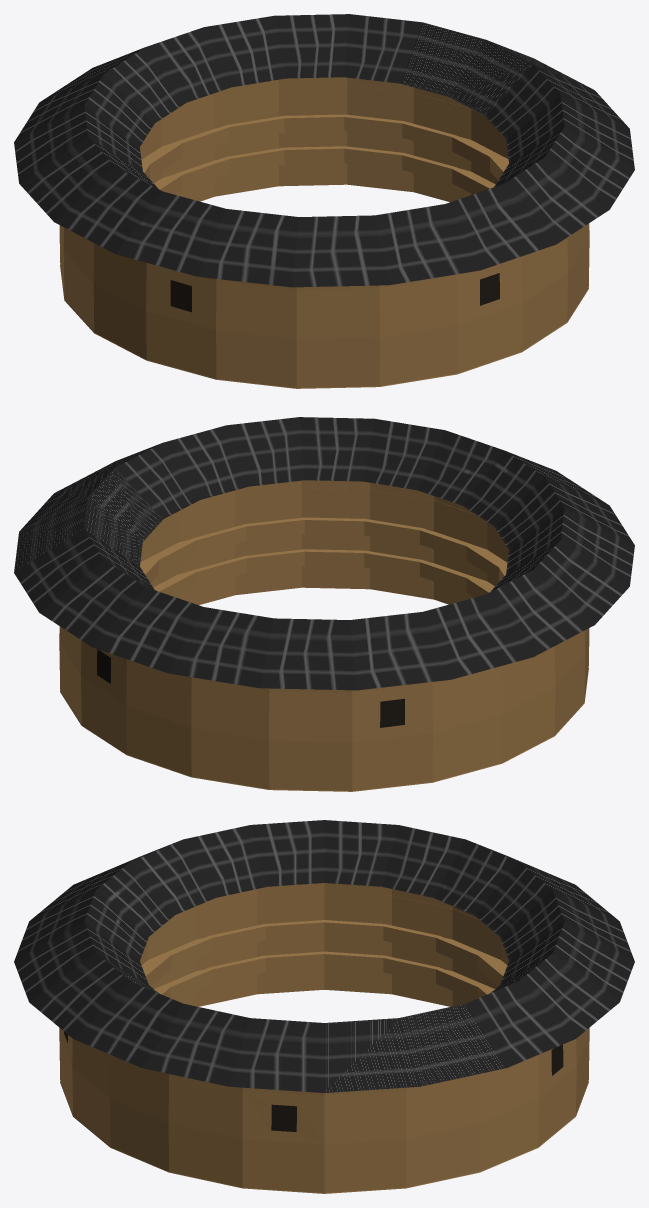
Rendered from fujiantulou.fbx.
3 views of the same model, one above another, from view 1: azimuth 30°, elevation 25°; view 2: azimuth 150°, elevation 25°; view 3: azimuth 270°, elevation 25° (orthographic).
Parts seen in each view (by area): view 1: pSphere1; view 2: pSphere1; view 3: pSphere1.
Boxes of the visible parts, <box> form: pSphere1: <box>14,14,634,388</box>; pSphere1: <box>14,417,634,791</box>; pSphere1: <box>14,820,634,1193</box>.
Size of the model in its own units: 13.21 by 3.77 by 13.21.
1 material, 1 textured.
